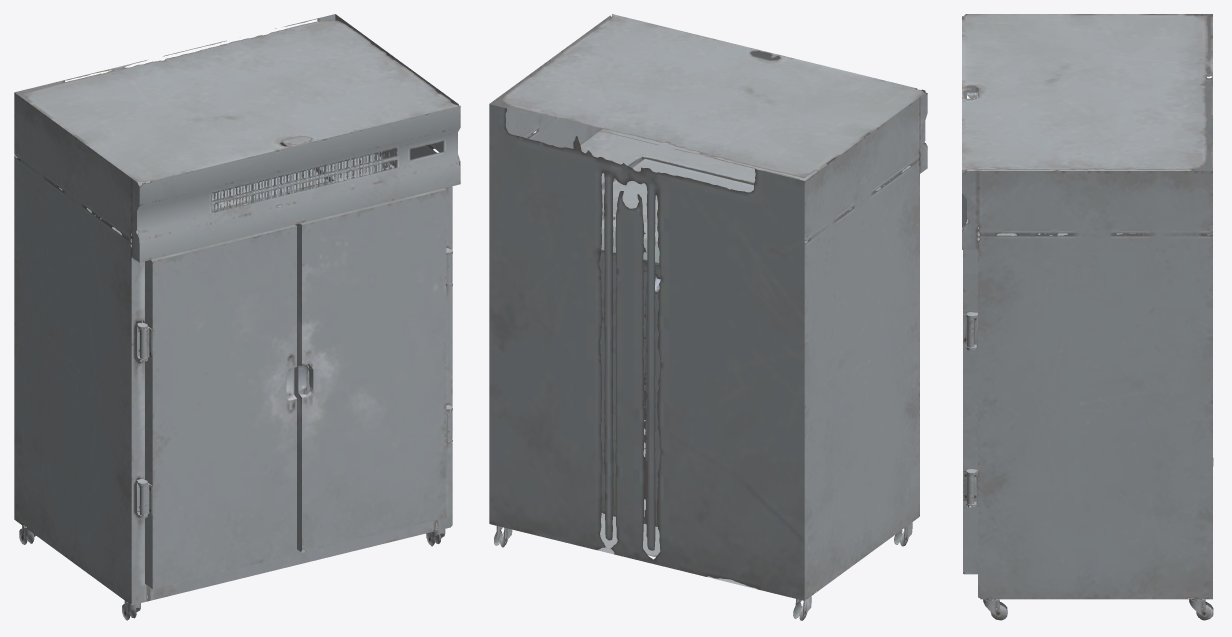
Rendered from sm23_018_largefreezer01a.fbx.
3 views of the same model, side by side, from view 1: azimuth 30°, elevation 25°; view 2: azimuth 150°, elevation 25°; view 3: azimuth 270°, elevation 25° (orthographic). The views are drawn at different scales.
Parts seen in each view (by area): view 1: LOD_1_Group_0_Sub_1__sm23_018_LargeFreezer01A_A_Mat__Env_Def; view 2: LOD_1_Group_0_Sub_1__sm23_018_LargeFreezer01A_A_Mat__Env_Def; view 3: LOD_1_Group_0_Sub_1__sm23_018_LargeFreezer01A_A_Mat__Env_Def.
Part boxes in pixels (left/top/right/bottom): LOD_1_Group_0_Sub_1__sm23_018_LargeFreezer01A_A_Mat__Env_Def: left=14, top=14, right=460, bottom=620; LOD_1_Group_0_Sub_1__sm23_018_LargeFreezer01A_A_Mat__Env_Def: left=489, top=14, right=927, bottom=620; LOD_1_Group_0_Sub_1__sm23_018_LargeFreezer01A_A_Mat__Env_Def: left=962, top=14, right=1213, bottom=620.
Size of the model in its own units: 2.01 by 2.72 by 1.41.
